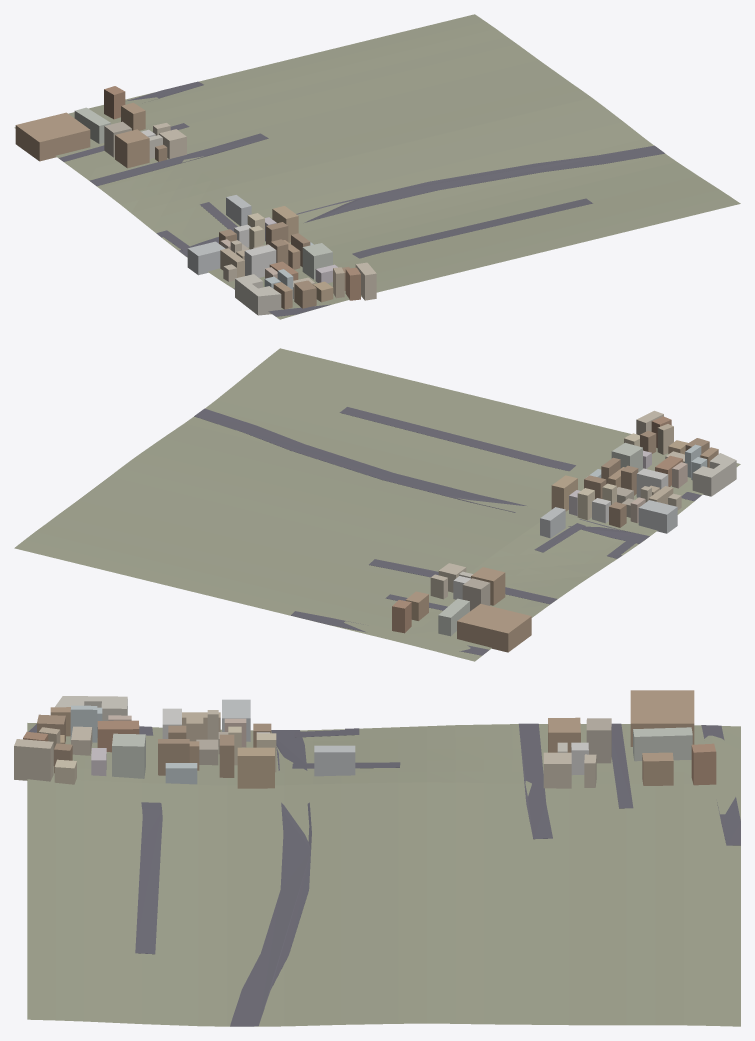
The model's file is chunk_11_2.glb.
The picture shows the model from 3 angles, top to bottom: view 1: azimuth 30°, elevation 25°; view 2: azimuth 150°, elevation 25°; view 3: azimuth 270°, elevation 25°; orthographic projection. The views are drawn at different scales.
Parts seen in each view (by area): view 1: geometry_48, geometry_49, geometry_1, geometry_51, geometry_52, geometry_3, geometry_11, geometry_34, geometry_31, geometry_2, geometry_14, geometry_0 (+6 smaller); view 2: geometry_48, geometry_49, geometry_1, geometry_51, geometry_3, geometry_34, geometry_52, geometry_14, geometry_11, geometry_10, geometry_16, geometry_54 (+4 smaller); view 3: geometry_48, geometry_49, geometry_51, geometry_1, geometry_52, geometry_14, geometry_40, geometry_16, geometry_2, geometry_0, geometry_53, geometry_10 (+13 smaller).
Boxes of the visible parts, bbox=[...] form: geometry_48: bbox=[14, 14, 740, 319]; geometry_49: bbox=[179, 145, 664, 257]; geometry_1: bbox=[15, 112, 90, 161]; geometry_51: bbox=[234, 198, 592, 289]; geometry_52: bbox=[89, 133, 268, 186]; geometry_3: bbox=[235, 274, 281, 315]; geometry_11: bbox=[115, 129, 149, 168]; geometry_34: bbox=[187, 241, 225, 275]; geometry_31: bbox=[244, 245, 276, 277]; geometry_2: bbox=[302, 243, 332, 279]; geometry_14: bbox=[74, 107, 110, 143]; geometry_0: bbox=[226, 195, 251, 226]; geometry_48: bbox=[14, 348, 740, 661]; geometry_49: bbox=[194, 408, 649, 543]; geometry_1: bbox=[457, 603, 531, 652]; geometry_51: bbox=[340, 407, 701, 501]; geometry_3: bbox=[692, 453, 736, 496]; geometry_34: bbox=[638, 500, 677, 533]; geometry_52: bbox=[369, 559, 557, 604]; geometry_14: bbox=[438, 598, 469, 636]; geometry_11: bbox=[471, 567, 505, 605]; geometry_10: bbox=[462, 578, 490, 611]; geometry_16: bbox=[551, 475, 577, 511]; geometry_54: bbox=[291, 611, 489, 655]; geometry_48: bbox=[27, 723, 740, 1026]; geometry_49: bbox=[230, 730, 311, 1026]; geometry_51: bbox=[135, 726, 162, 954]; geometry_1: bbox=[630, 690, 694, 746]; geometry_52: bbox=[519, 723, 552, 839]; geometry_14: bbox=[633, 727, 692, 761]; geometry_40: bbox=[14, 739, 53, 781]; geometry_16: bbox=[237, 747, 274, 788]; geometry_2: bbox=[112, 733, 145, 778]; geometry_0: bbox=[314, 745, 355, 776]; geometry_53: bbox=[611, 723, 633, 808]; geometry_10: bbox=[586, 718, 611, 763].
Size of the model in its own units: 259 by 17.57 by 255.
